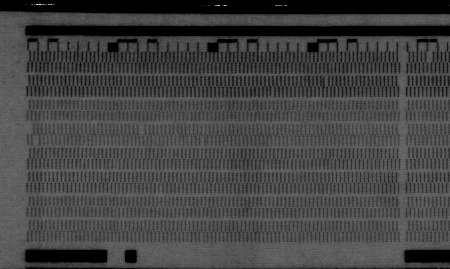Oblique printing: (23, 121, 42, 148), (318, 74, 330, 87), (136, 123, 148, 136), (198, 134, 210, 147), (424, 50, 435, 63), (265, 87, 277, 98)
